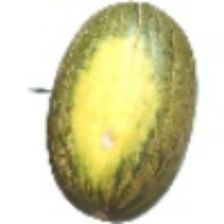honeydew: (34, 31, 220, 213)
